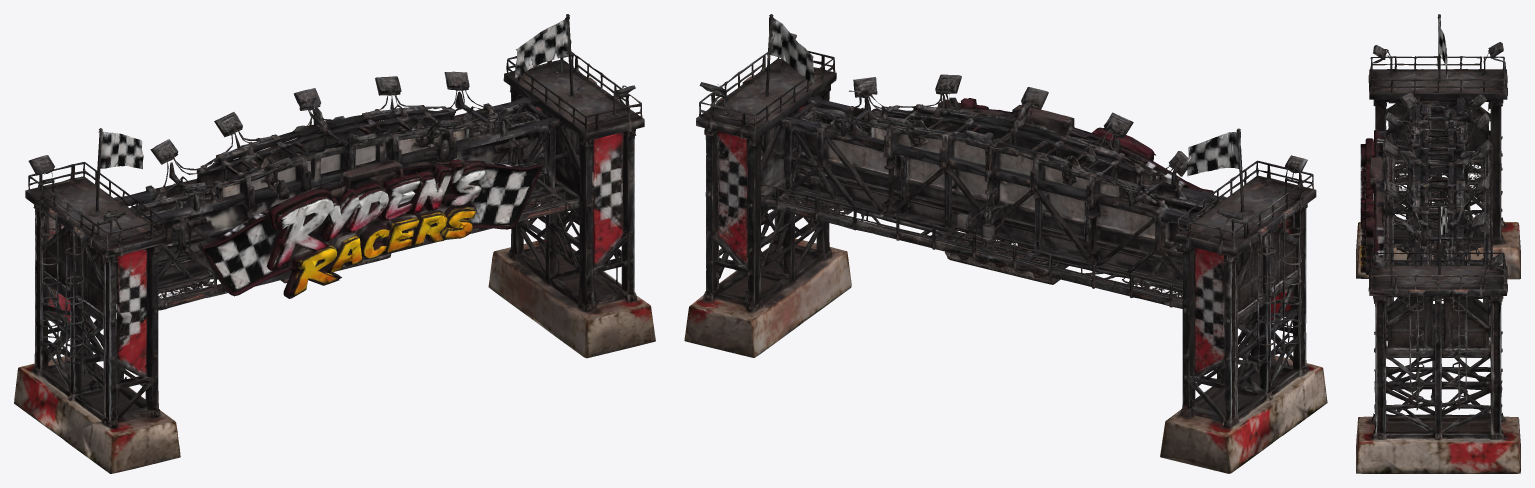
The model's file is rrsign.glb.
The picture shows the model from 3 angles, left to right: view 1: azimuth 30°, elevation 25°; view 2: azimuth 150°, elevation 25°; view 3: azimuth 270°, elevation 25°; orthographic projection. The views are drawn at different scales.
Visible parts, largest first — view 1: Mesh_0.001; view 2: Mesh_0.001; view 3: Mesh_0.001.
Part boxes in pixels (x1,y1,x2,y2): Mesh_0.001: (14, 14, 655, 473); Mesh_0.001: (684, 14, 1327, 473); Mesh_0.001: (1356, 14, 1520, 473).
Bounding box in the file's own units: 17.61 × 9 × 5.32.
Materials: 1 (1 with a texture image).
